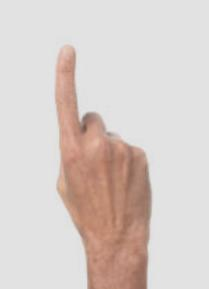up: (53, 45, 152, 256)
